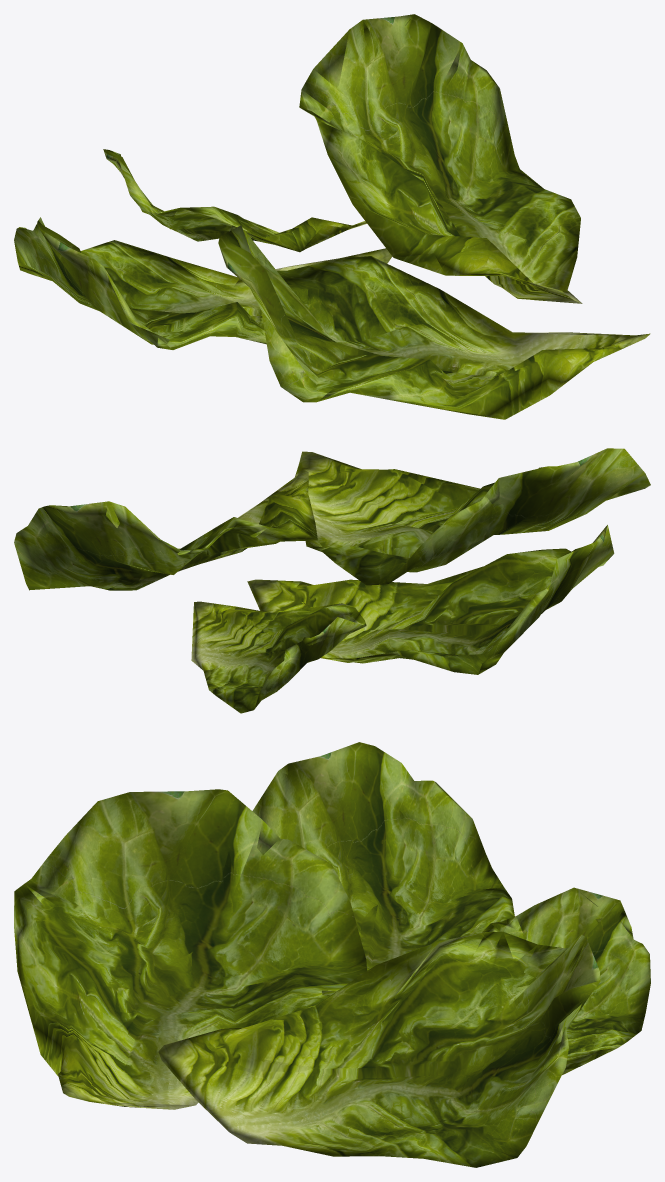
The model's file is Lettuce.FBX.
3 renders of one model, top to bottom at view 1: azimuth 30°, elevation 25°; view 2: azimuth 150°, elevation 25°; view 3: azimuth 270°, elevation 25°, orthographic. The views are drawn at different scales.
Parts seen in each view (by area): view 1: lettuce; view 2: lettuce; view 3: lettuce.
Boxes of the visible parts, x1=… form: lettuce: x1=14, y1=14, x2=650, y2=419; lettuce: x1=14, y1=448, x2=650, y2=713; lettuce: x1=14, y1=742, x2=650, y2=1167.
Size of the model in its own units: 9.26 by 2.89 by 8.85.
1 material, 1 textured.
